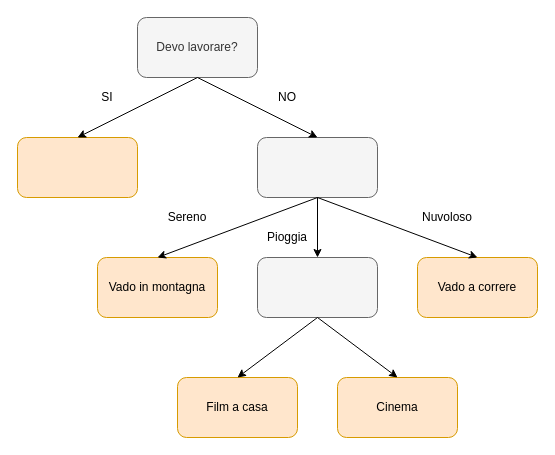
This 555x455 diagram has some shape labels left out. The shapes that lost their labels are listed below. From the top down, each one's centre as x and y in pixels, then its label:
At (x=77, y=167): "Sto a casa".
At (x=317, y=167): "Esco?".
At (x=317, y=287): "Amici impegnati?".
